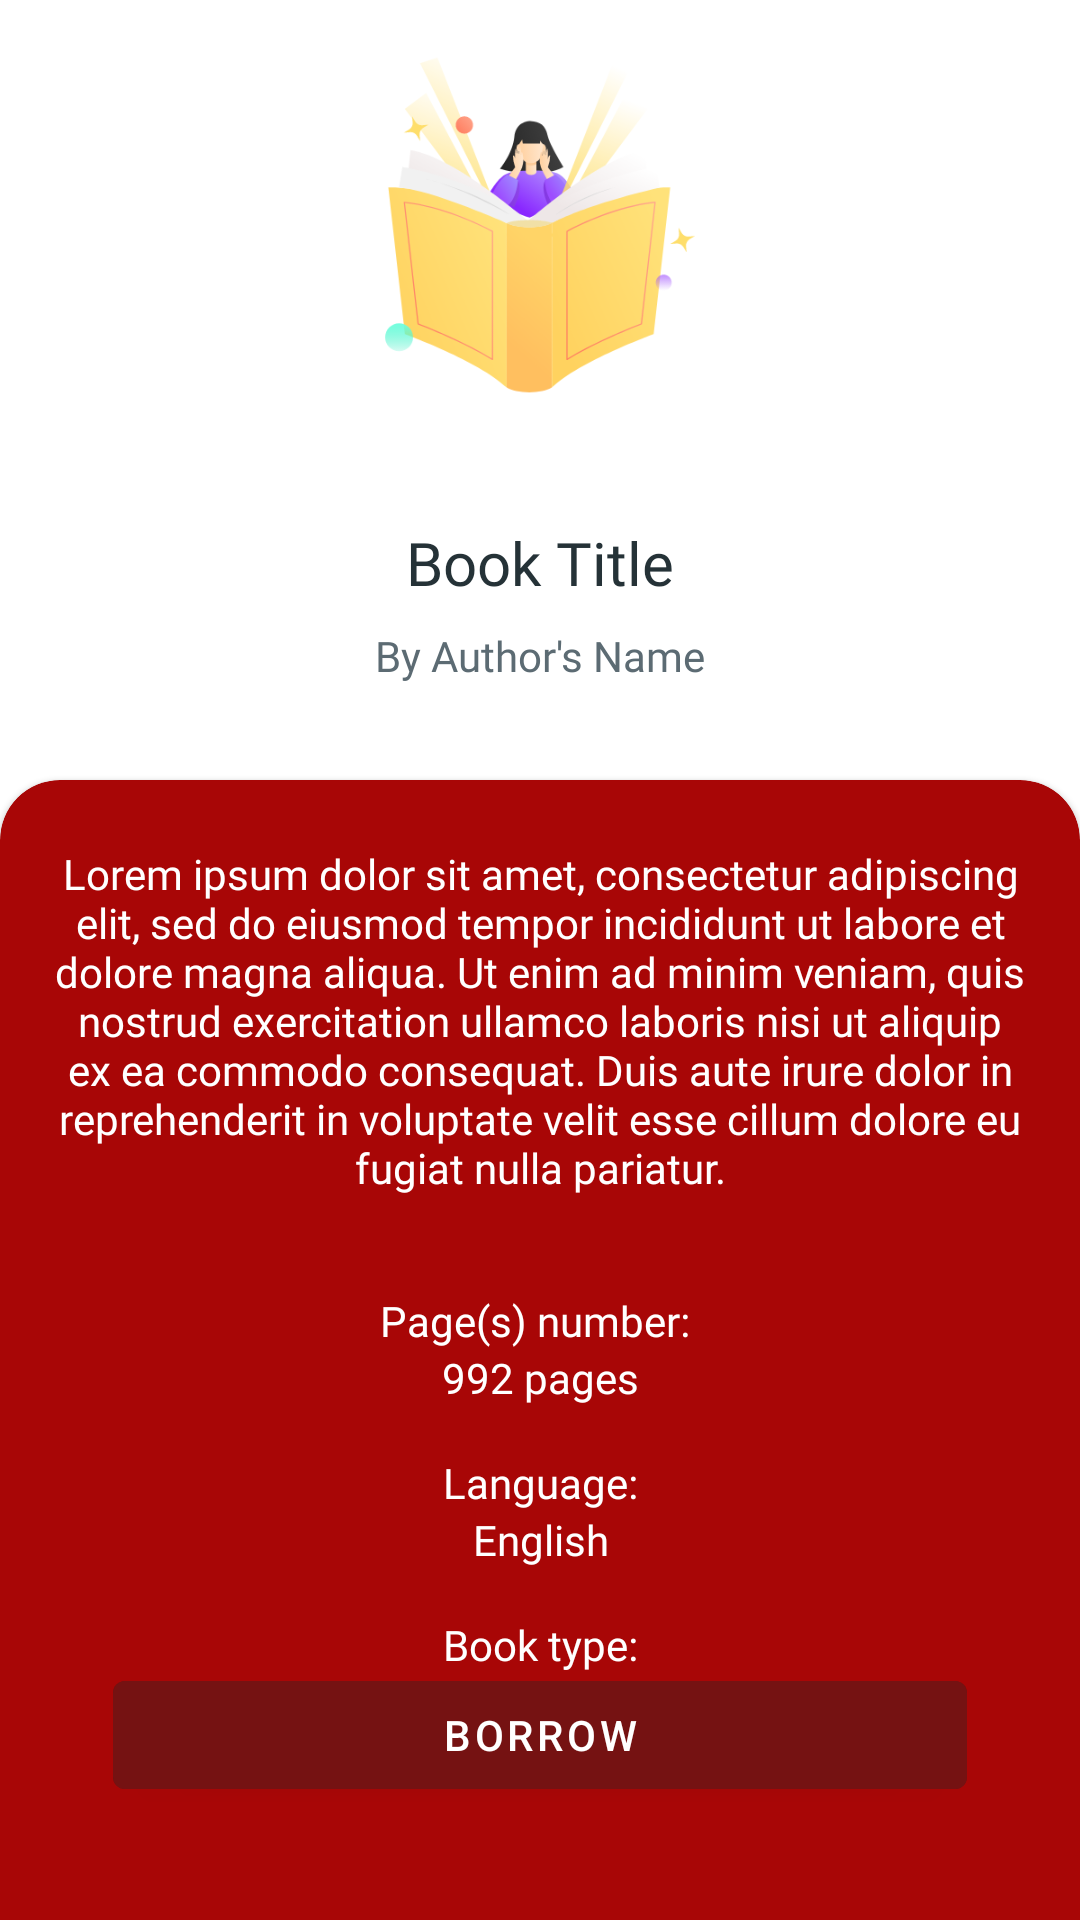

Point at icon controls on the screen. Image size 1080x1920, points as (x,y).
books: (540,228)
